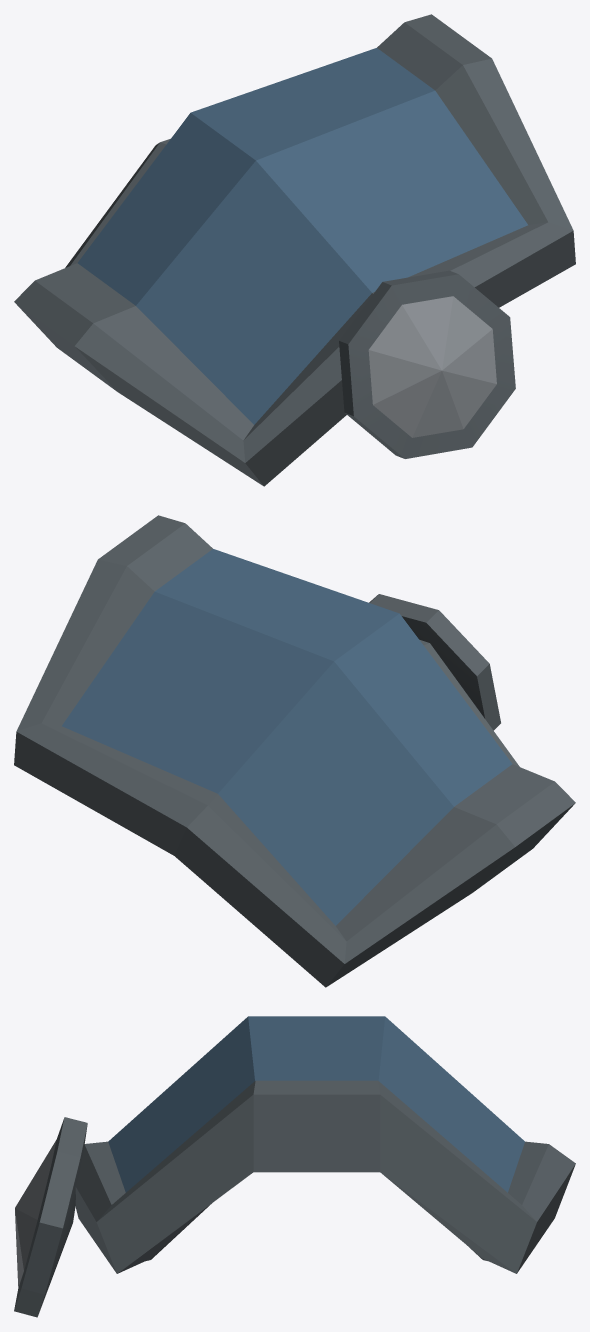
The model's file is Chr_ShoulderAttachRight_14_Static.fbx.
The picture shows the model from 3 angles, top to bottom: view 1: azimuth 30°, elevation 25°; view 2: azimuth 150°, elevation 25°; view 3: azimuth 270°, elevation 25°; orthographic projection. The views are drawn at different scales.
Visible parts, largest first — view 1: Chr_ShoulderAttachRight_14_Static; view 2: Chr_ShoulderAttachRight_14_Static; view 3: Chr_ShoulderAttachRight_14_Static.
Boxes of the visible parts, x1,y1,x2,y2 form: Chr_ShoulderAttachRight_14_Static: (14, 14, 575, 486); Chr_ShoulderAttachRight_14_Static: (14, 515, 575, 987); Chr_ShoulderAttachRight_14_Static: (14, 1016, 575, 1317).
Size of the model in its own units: 0.259 by 0.1752 by 0.2761.
